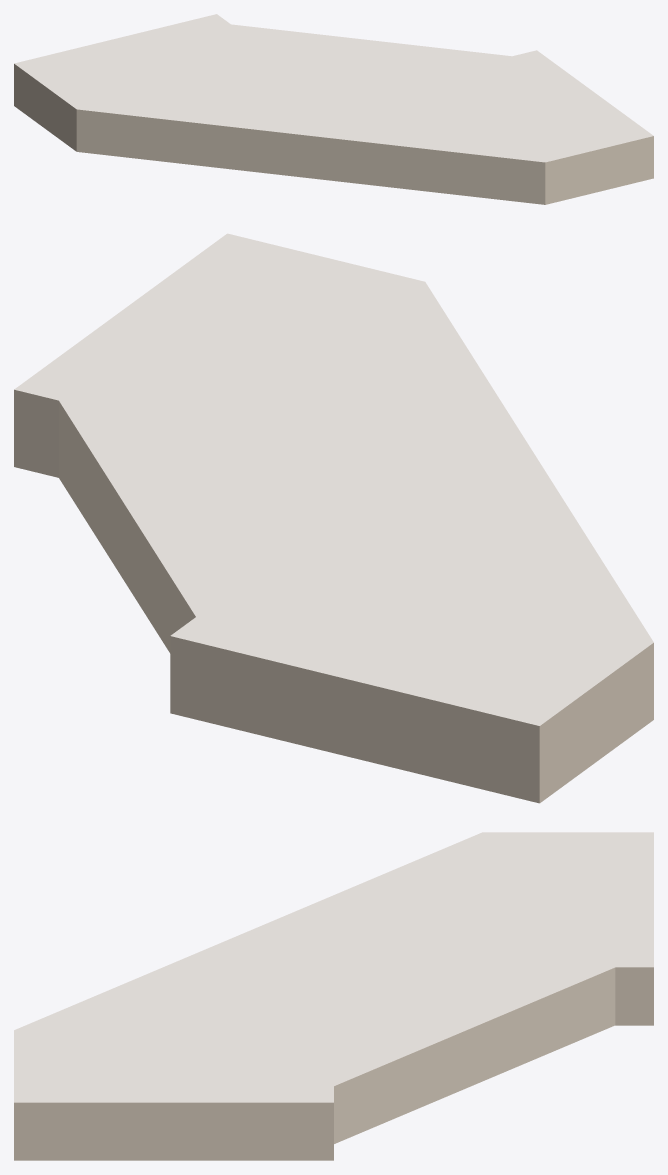
The model's file is Floor_Tower_Balcony.glb.
3 renders of one model, top to bottom at view 1: azimuth 30°, elevation 25°; view 2: azimuth 150°, elevation 25°; view 3: azimuth 270°, elevation 25°, orthographic. The views are drawn at different scales.
Parts seen in each view (by area): view 1: Floor_Tower_Balcony; view 2: Floor_Tower_Balcony; view 3: Floor_Tower_Balcony.
Part boxes in pixels (box(x1,y1,x2,y2)): Floor_Tower_Balcony: box(14, 14, 653, 204); Floor_Tower_Balcony: box(14, 233, 653, 803); Floor_Tower_Balcony: box(14, 832, 653, 1160).
Bounding box in the file's own units: 0.9 × 0.09 × 0.9.
